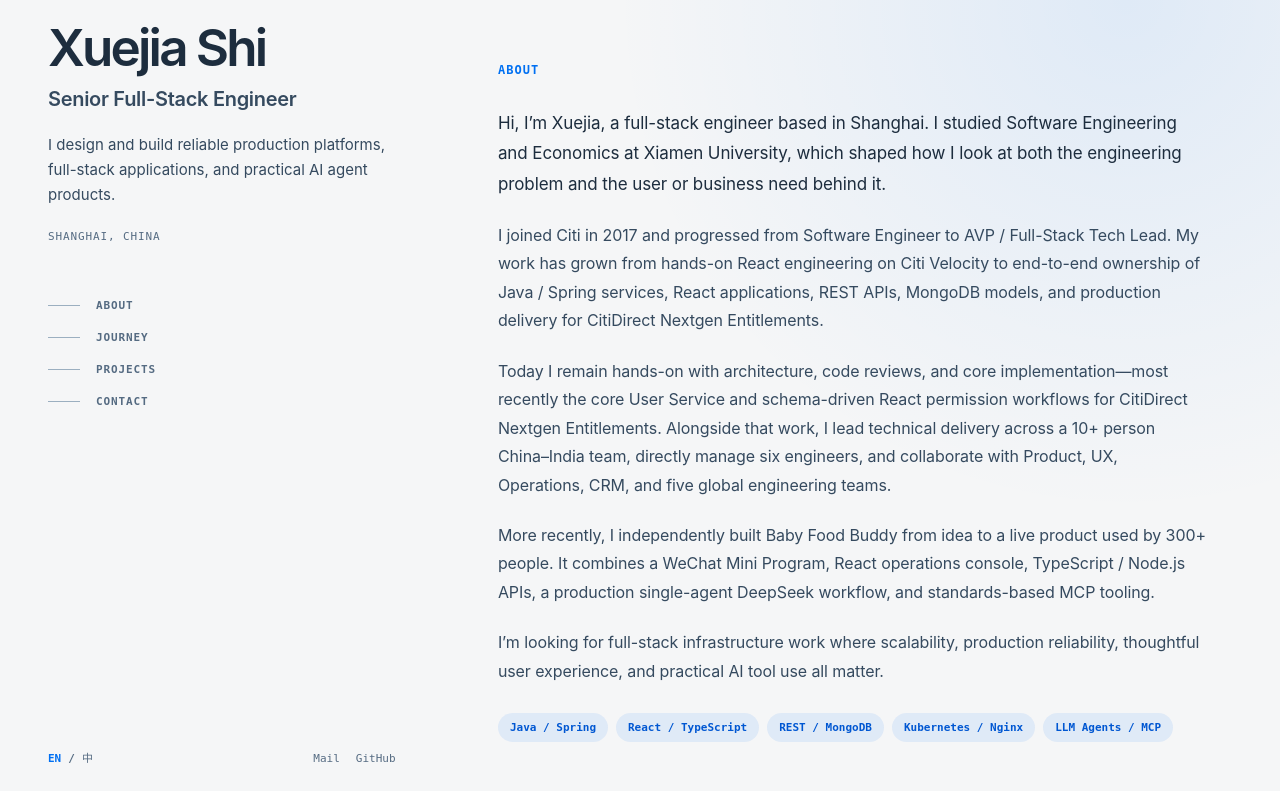
it: portfolio › switches language and remembers the selection
Click the button "中" at (87, 758), box [82,753,93,764]
(page scrolled)
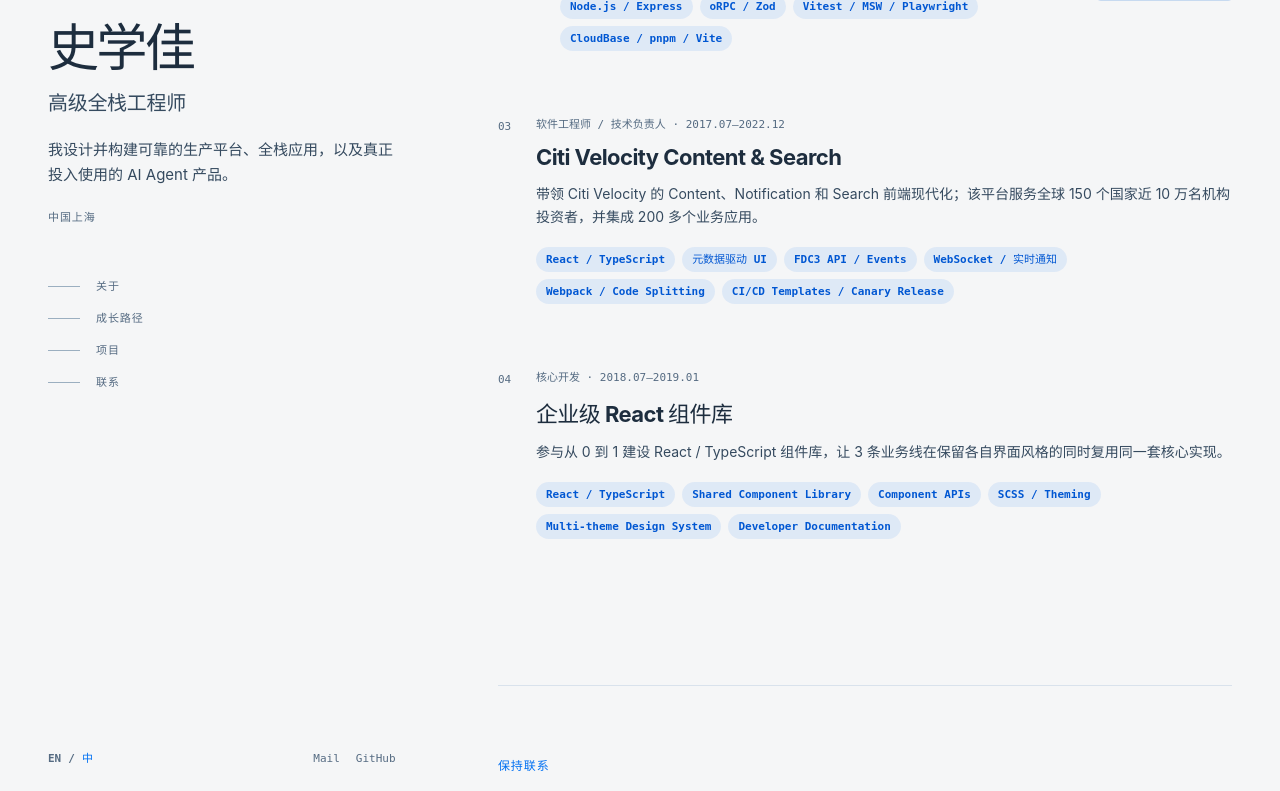
Expected: the text "核心开发 · 2018.07—2019.01" is shown, [536,371,699,384]
Now the text "我设计并构建可靠的生产平台、全栈应用，以及真正投入使用的 AI Agent 产品。" is shown, box [48,138,396,188]
Now the text "150 个国家近 10 万名机构投资者" is shown, box [536,185,1230,225]
